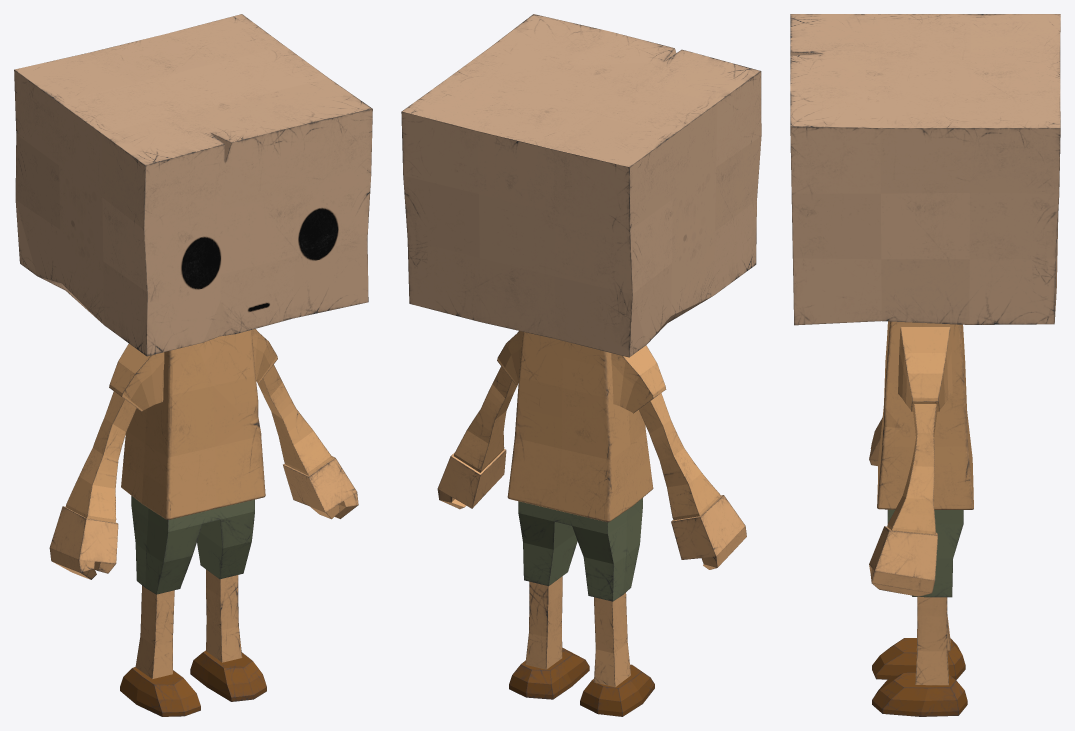
Rendered from paperhead.glb.
The picture shows the model from 3 angles, left to right: view 1: azimuth 30°, elevation 25°; view 2: azimuth 150°, elevation 25°; view 3: azimuth 270°, elevation 25°; orthographic projection. The views are drawn at different scales.
Parts seen in each view (by area): view 1: model_0; view 2: model_0; view 3: model_0.
Part boxes in pixels (<box>): model_0: <box>14,14,372,716</box>; model_0: <box>401,14,761,716</box>; model_0: <box>790,14,1060,716</box>.
Size of the model in its own units: 37.75 by 78 by 30.87.
Materials: 1 (1 with a texture image).
